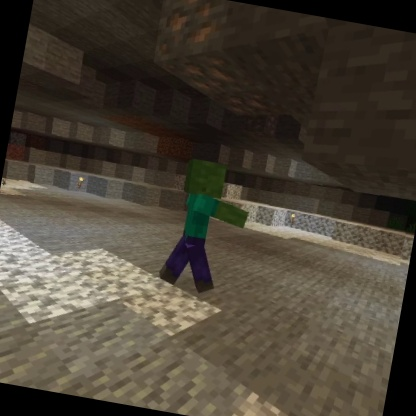zombie: (153, 152, 260, 303)
